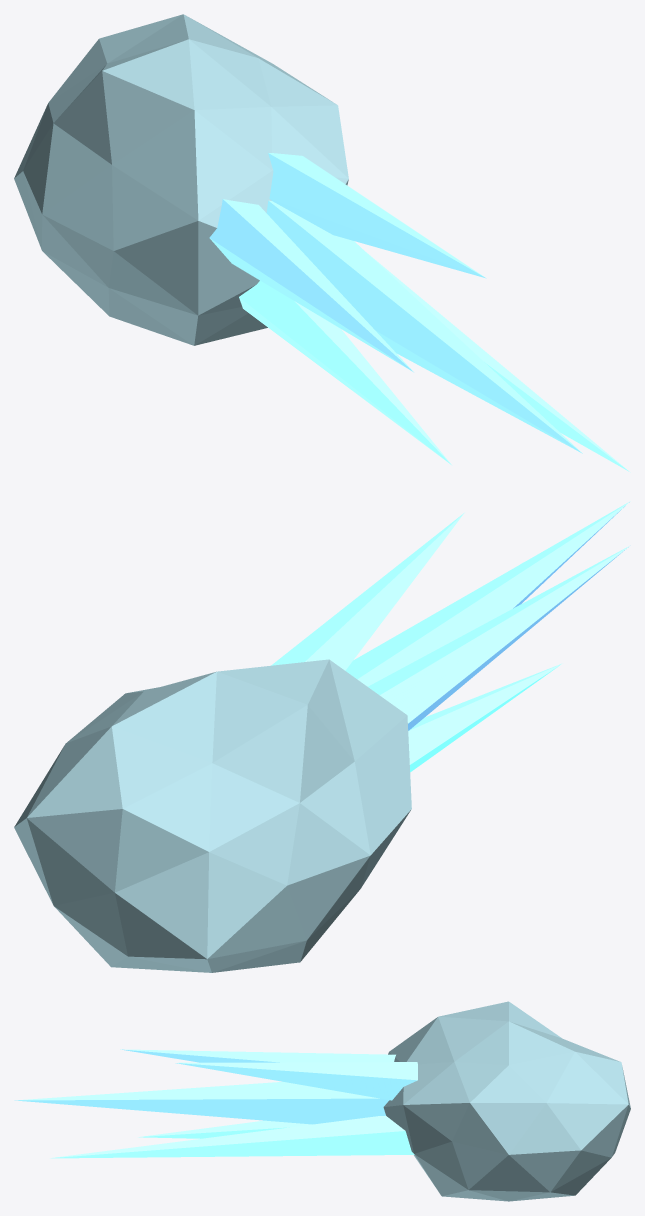
Rendered from comet.glb.
The picture shows the model from 3 angles, top to bottom: view 1: azimuth 30°, elevation 25°; view 2: azimuth 150°, elevation 25°; view 3: azimuth 270°, elevation 25°; orthographic projection. The views are drawn at different scales.
Visible parts, largest first — view 1: comet-ice, comet-crystal, comet-cyan; view 2: comet-ice, comet-crystal, comet-cyan; view 3: comet-ice, comet-crystal, comet-cyan.
Boxes of the visible parts, x1=… form: comet-ice: x1=14, y1=14, x2=348, y2=345; comet-crystal: x1=209, y1=153, x2=582, y2=453; comet-cyan: x1=239, y1=252, x2=630, y2=472; comet-ice: x1=14, y1=659, x2=411, y2=972; comet-crystal: x1=271, y1=501, x2=630, y2=730; comet-cyan: x1=408, y1=564, x2=562, y2=771; comet-ice: x1=383, y1=1001, x2=630, y2=1201; comet-crystal: x1=14, y1=1049, x2=417, y2=1124; comet-cyan: x1=50, y1=1115, x2=414, y2=1158.
Bounding box in the file's own units: 0.6855 × 0.6103 × 1.97.
